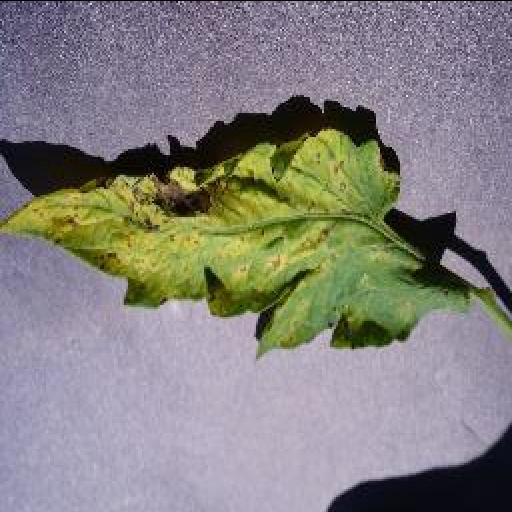disease_tomato: (0, 128, 468, 356)
